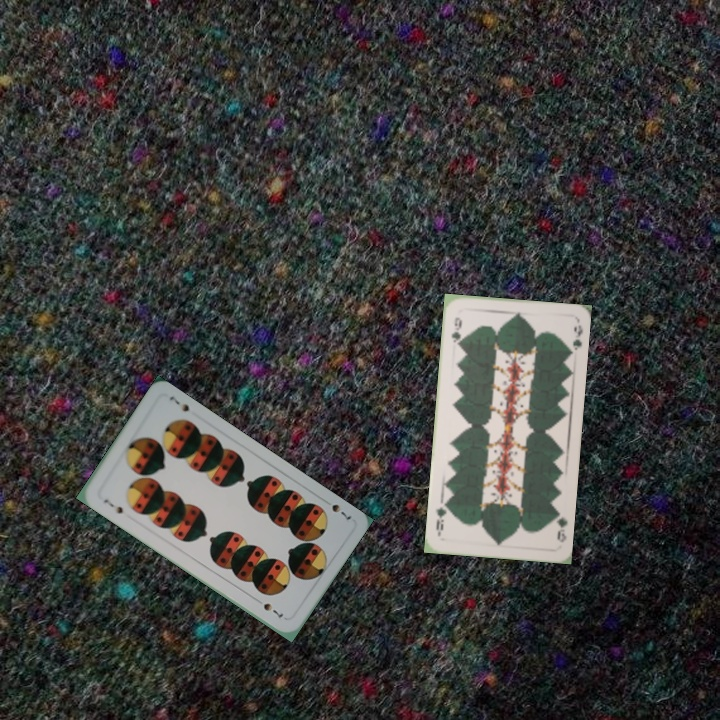G9: (550, 506, 570, 545), (448, 313, 464, 349)
S7: (319, 495, 354, 524), (99, 495, 126, 517)
